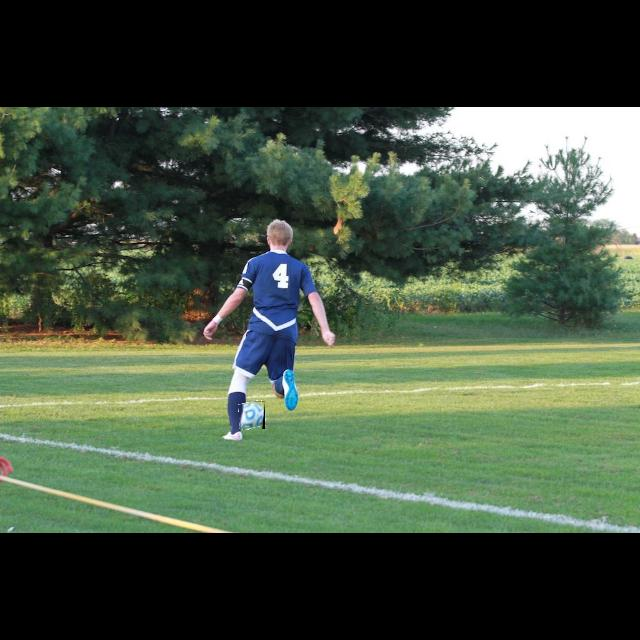Football: (239, 401, 265, 429)
